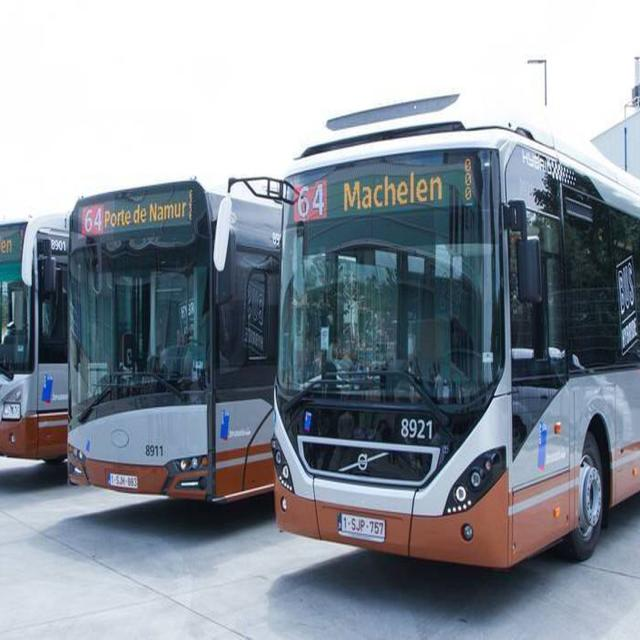Bus: (273, 94, 640, 569), (66, 180, 280, 502)
